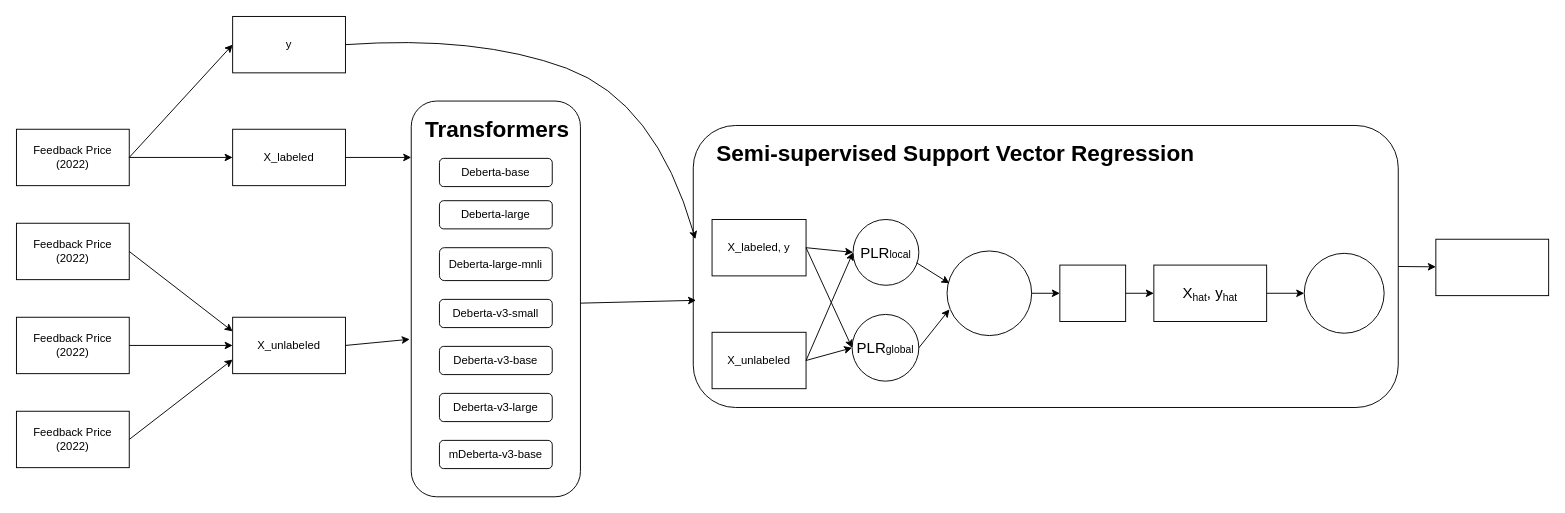
This 1565x513 diagram has some shape labels left out. The centre of each missing label's shape, as x and y in pixels:
"p i , y bar" goes at pixel 1092 292.
"PLR conjugate" goes at pixel 989 293.
"Predictions" goes at pixel 1492 267.
"SVR" goes at pixel 1343 292.
